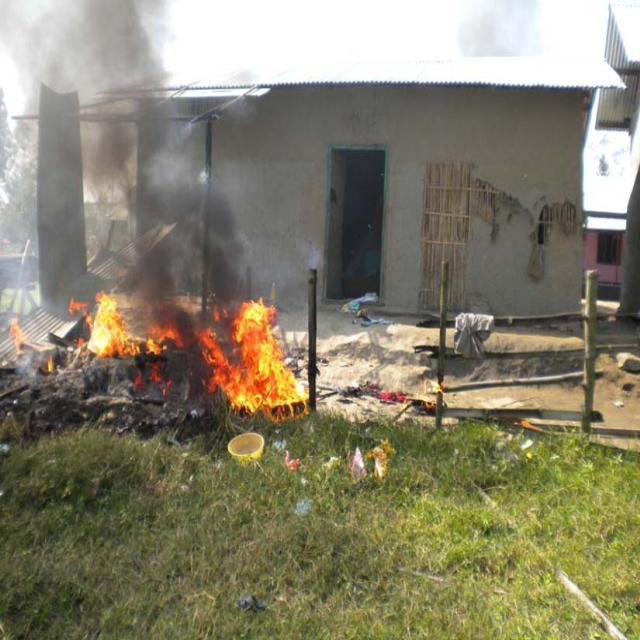Fire: (236, 296, 306, 419), (86, 294, 136, 359)
Smoke: (39, 18, 180, 260)
